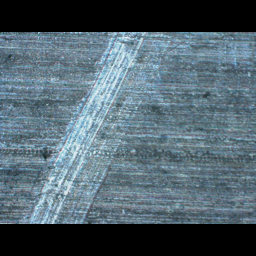d: (18, 102, 110, 224), (80, 32, 172, 123)
